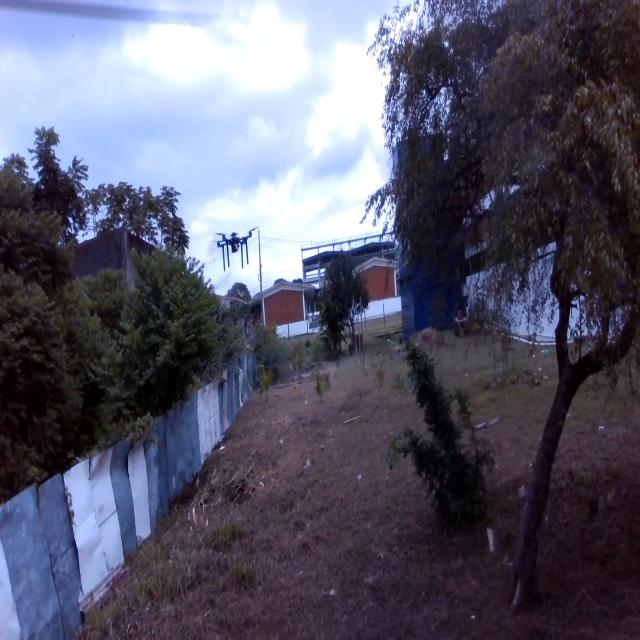-uav-: (203, 220, 262, 276)
